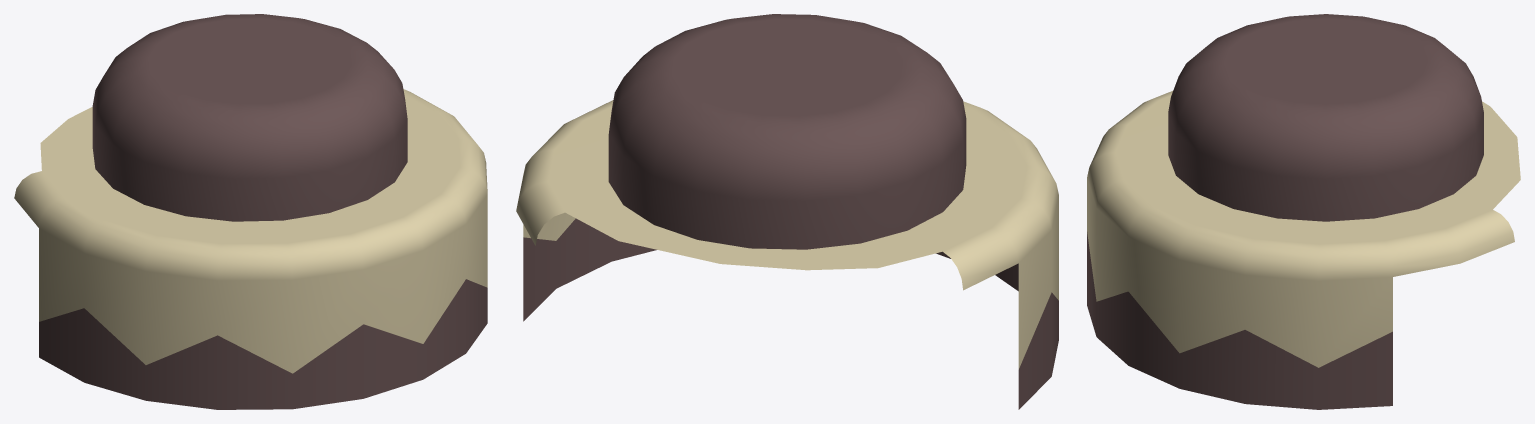
File: cake smooth.fbx
3 renders of one model, left to right at view 1: azimuth 30°, elevation 25°; view 2: azimuth 150°, elevation 25°; view 3: azimuth 270°, elevation 25°, orthographic. The views are drawn at different scales.
Parts seen in each view (by area): view 1: pCylinder17; view 2: pCylinder17; view 3: pCylinder17.
Part boxes in pixels (<box>): pCylinder17: <box>14,14,487,409</box>; pCylinder17: <box>516,14,1058,409</box>; pCylinder17: <box>1087,14,1520,409</box>.
Bounding box in the file's own units: 95.47 × 54.53 × 86.65.
